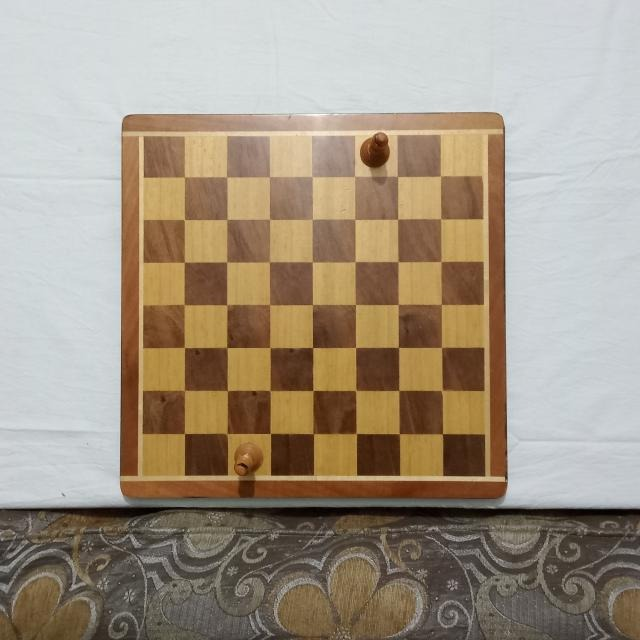white-bishop: (357, 128, 392, 167), (230, 440, 263, 475)
